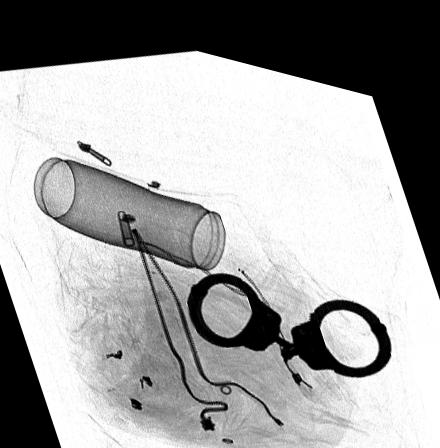HandCuffs: (186, 258, 393, 359)
